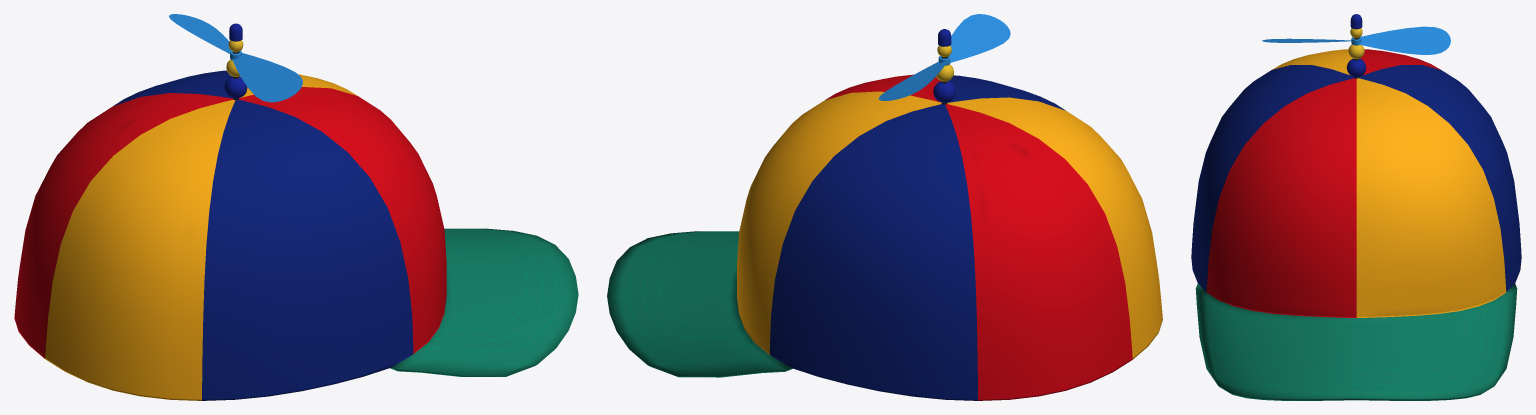
The model's file is propeller_cap.glb.
3 renders of one model, left to right at view 1: azimuth 30°, elevation 25°; view 2: azimuth 150°, elevation 25°; view 3: azimuth 270°, elevation 25°, orthographic. The views are drawn at different scales.
Visible parts, largest first — view 1: Object_3, Object_4, Object_5, Object_2; view 2: Object_3, Object_4, Object_5, Object_2; view 3: Object_3, Object_4, Object_5, Object_2, Object_6.
Part boxes in pixels (box(x1,y1,x2,y2)): Object_3: box(14, 70, 446, 400); Object_4: box(390, 228, 578, 376); Object_5: box(169, 14, 302, 102); Object_2: box(224, 23, 247, 98); Object_3: box(737, 74, 1162, 400); Object_4: box(607, 231, 792, 377); Object_5: box(878, 14, 1010, 100); Object_2: box(933, 29, 955, 102); Object_3: box(1191, 49, 1521, 317); Object_4: box(1195, 283, 1517, 400); Object_5: box(1262, 26, 1450, 54); Object_2: box(1346, 14, 1366, 77); Object_6: box(1348, 28, 1364, 59).
Size of the model in its own units: 0.2415 by 0.1521 by 0.1607.
Materials: 6 (2 with a texture image).
